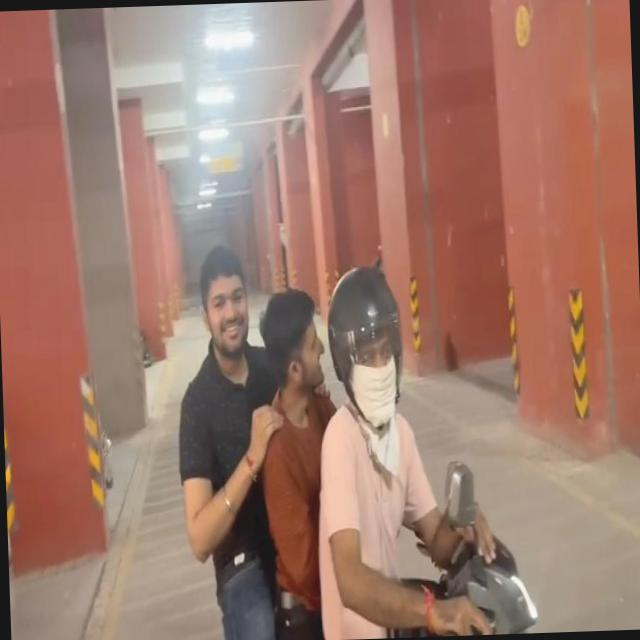motorcycle: (176, 527, 539, 640)
person: (165, 238, 302, 640), (239, 288, 374, 640), (314, 258, 423, 640)
rider_region: (179, 251, 540, 640)
